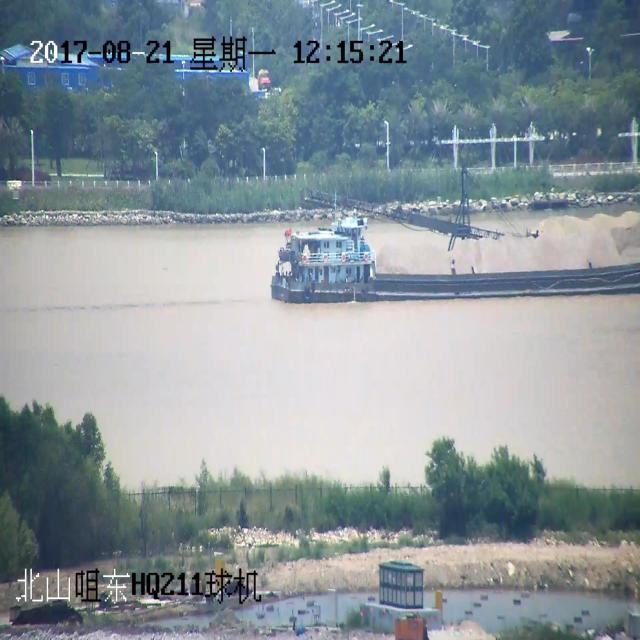cargoship: (268, 153, 638, 298)
